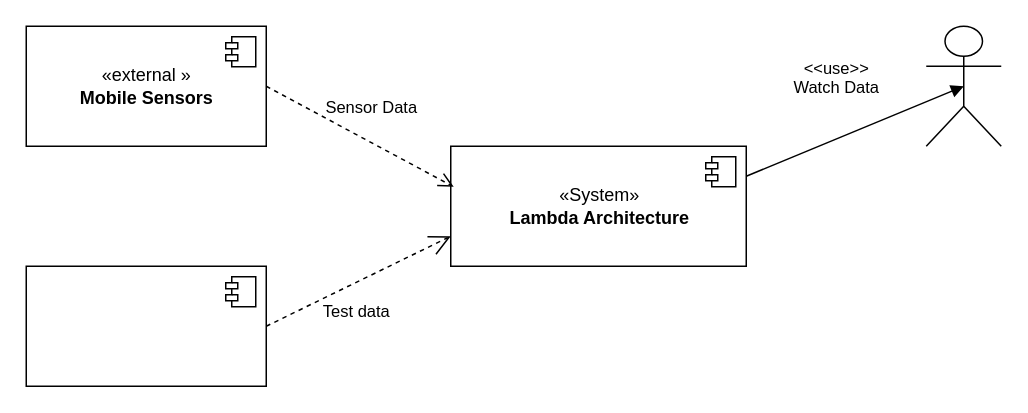
Image size: 1028x413. Some labels were removed from this diagram. Here are the shapes that lost their labels. From the top down, the centre of each, then its label:
the point at 963,85: User
the point at 145,325: «external » Test data generator
